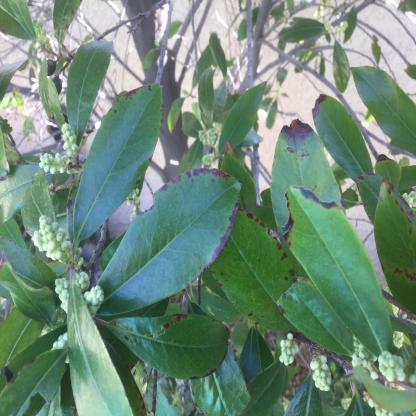cherry leaf: (92, 164, 256, 326), (276, 172, 397, 380), (68, 76, 175, 253), (102, 310, 243, 381), (57, 34, 131, 165), (345, 53, 416, 169), (308, 88, 380, 198), (0, 260, 62, 338), (17, 167, 65, 251)
